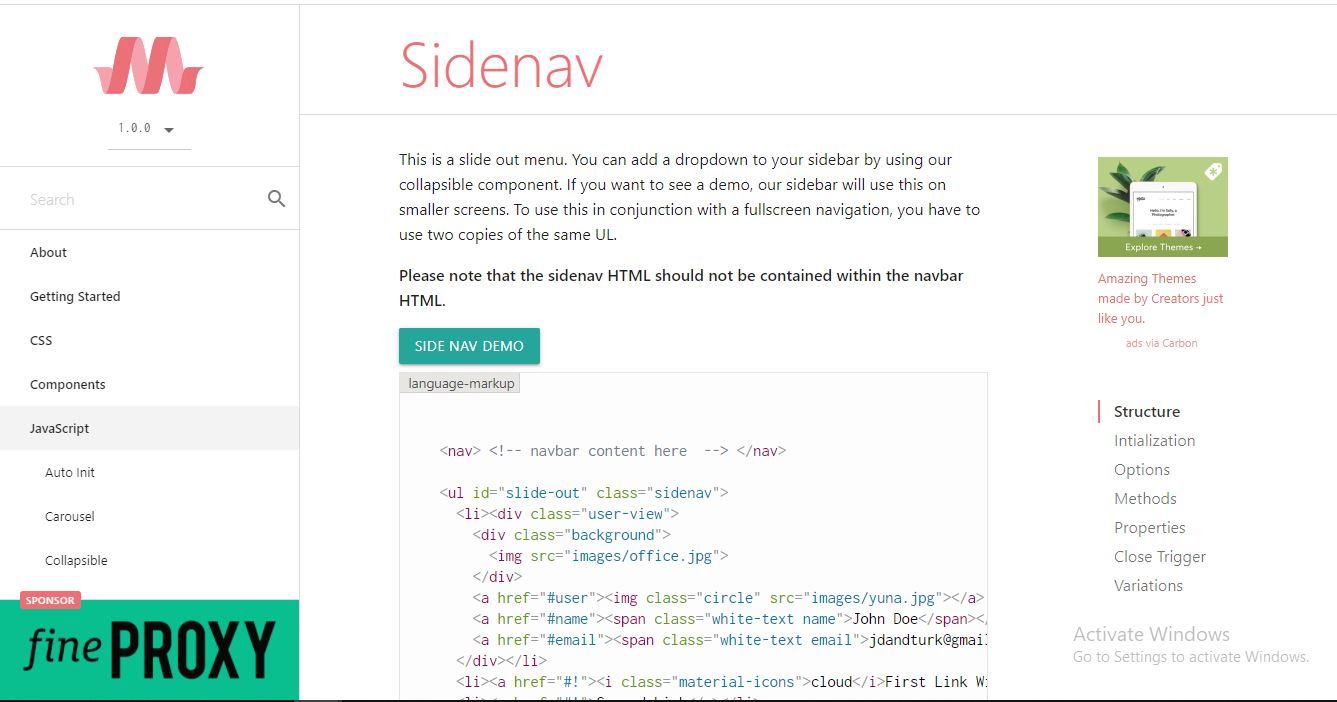Button: (392, 327, 542, 365)
Side Bar: (0, 0, 302, 702), (1055, 122, 1274, 613)
Text Field: (0, 166, 256, 225)
